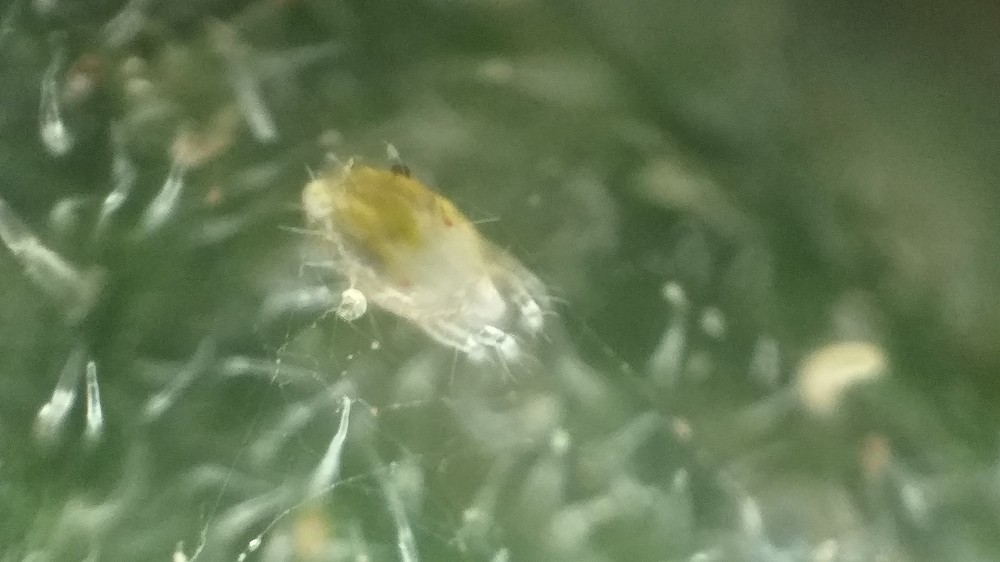Aracnido Rojo: (260, 126, 571, 388)
